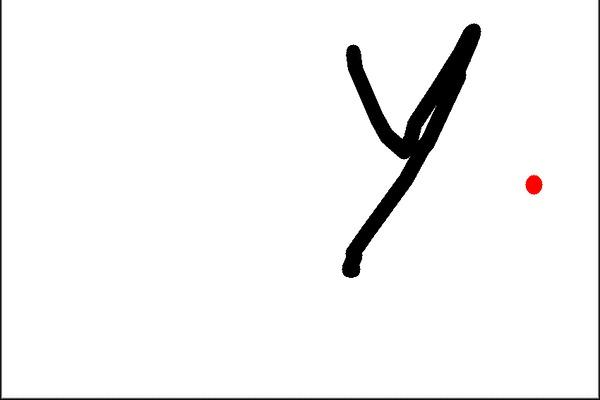Y: (319, 14, 495, 290)
